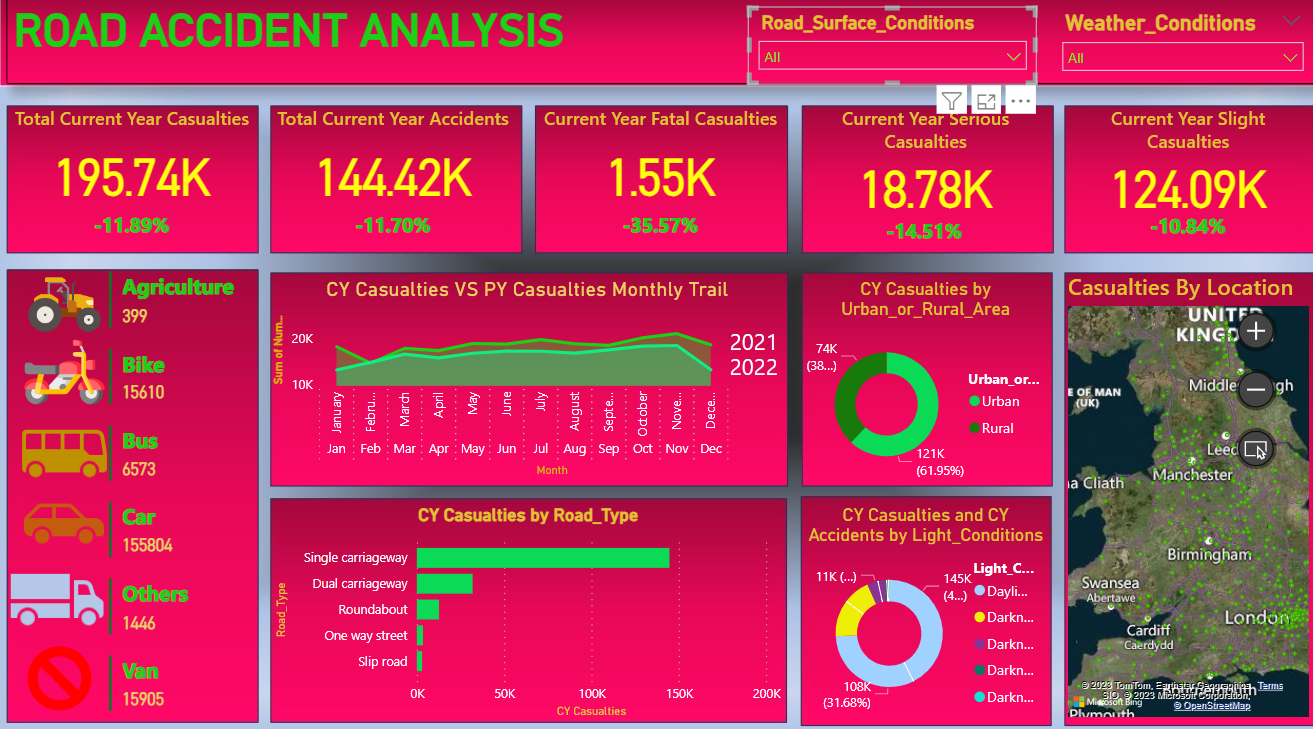

The dashboard page shown, as its layout file describes it:
{"tool":"powerbi","page":{"name":"Page 1","canvas":[1280,720],"ordinal":0},"visuals":[{"type":"group","id":"g1","title":"Group 1","box":[16.5,115.3,238.8,148.2],"z":0},{"type":"card","title":"Total Current Year Casualties","fields":{"Values":["Data.CY Casualties"]},"box":[16.5,115.3,238.8,104.3],"z":0,"group":"g1"},{"type":"card","title":"Total Current Year Accidents","fields":{"Values":["Data.CY Accidents"]},"box":[264.8,115.3,238.8,104.3],"z":0,"group":"g2"},{"type":"card","title":"Current Year Fatal Casualties","fields":{"Values":["Data.CY Accidents"]},"box":[520.1,115.3,238.8,104.3],"z":0,"group":"g3"},{"type":"card","title":"Current Year Serious Casualties","fields":{"Values":["Data.CY Accidents"]},"box":[772.6,115.3,238.8,104.3],"z":0,"group":"g4"},{"type":"card","title":"Current Year Slight Casualties","fields":{"Values":["Data.CY Accidents"]},"box":[1022.3,115.3,238.8,104.3],"z":0,"group":"g5"},{"type":"group","id":"g2","title":"Group 1","box":[264.8,115.3,238.8,148.2],"z":1000},{"type":"card","title":"YoY Casualties","fields":{"Values":["Data.YoY Casualties"]},"box":[52.2,199,167.4,64.5],"z":1000,"group":"g1"},{"type":"card","title":"YoY Casualties","fields":{"Values":["Data.YoY Accidents"]},"box":[300.5,199,167.4,64.5],"z":1000,"group":"g2"},{"type":"card","title":"YoY Casualties","fields":{"Values":["Data.YoY Accidents"]},"box":[555.8,199,167.4,64.5],"z":1000,"group":"g3"},{"type":"card","title":"YoY Casualties","fields":{"Values":["Data.YoY Accidents"]},"box":[1058.2,199.6,167.4,64.5],"z":1000,"group":"g5"},{"type":"card","title":"YoY Casualties","fields":{"Values":["Data.YoY Accidents"]},"box":[807.7,204.2,167.4,64.5],"z":1000,"group":"g4"},{"type":"group","id":"g3","title":"Group 1","box":[520.1,115.3,238.8,148.2],"z":2000},{"type":"group","id":"g4","title":"Group 1","box":[772.6,115.3,238.8,153.7],"z":3000},{"type":"group","id":"g5","title":"Group 1","box":[1022.3,115.3,238.8,148.2],"z":4000},{"type":"textbox","box":[16.1,12.1,1245.3,83.4],"z":5000},{"type":"multiRowCard","fields":{"Values":["Data.Vehicle_Type (groups)","Data.CY Casualties"]},"box":[109.8,269,174.3,451.5],"z":6000},{"type":"image","box":[16.5,263.5,109.8,83.7],"z":7000},{"type":"image","box":[16.5,326.6,109.8,86.4],"z":8000},{"type":"image","box":[16.5,397.9,109.8,97.4],"z":9000},{"type":"image","box":[24.7,463.8,93.3,98.8],"z":10000},{"type":"image","box":[12.3,529.7,105.7,112.5],"z":11000},{"type":"image","box":[12.3,617.5,109.8,86.4],"z":12000},{"type":"areaChart","title":"CY Casualties VS PY Casualties Monthly Trail","fields":{"Category":["Calender.Month","Calender.Date.Variation.Date Hierarchy.Month"],"Y":["Sum(Data.Number_of_Casualties)"],"Series":["Calender.Date.Variation.Date Hierarchy.Year"]},"box":[264.8,279.9,494,194.9],"z":13000},{"type":"donutChart","fields":{"Category":["Data.Urban_or_Rural_Area"],"Y":["Data.CY Casualties"]},"box":[772.6,279.9,238.8,203.1],"z":14000},{"type":"donutChart","fields":{"Y":["Data.CY Casualties","Data.CY Accidents"],"Category":["Data.Light_Conditions"]},"box":[772.6,495.4,238.8,208.6],"z":15000},{"type":"barChart","fields":{"Category":["Data.Road_Type"],"Y":["Data.CY Casualties"]},"box":[267.6,495.4,491.3,208.6],"z":16000},{"type":"map","title":"Casualties By Location","fields":{"Category":["Data.Local_Authority_(District)"],"X":["Avg(Data.Longitude)"],"Y":["Avg(Data.Latitude)"]},"box":[1022.1,273,239.4,430.3],"z":17000},{"type":"slicer","fields":{"Values":["Data.Weather_Conditions (groups)"]},"box":[1011.3,20.2,250.1,65.9],"z":17001},{"type":"slicer","fields":{"Values":["Data.Road_Surface_Conditions"]},"box":[722.2,21.5,275.7,74],"z":17002}]}

Visuals, with their boxes in screenshot pixels (x1, y1, x2, y2), scaled from the page's 1280x720 canvas onto the 1313x729 screenshot:
"Group 1" group: Rect(17, 117, 262, 267)
"Total Current Year Casualties" card: Rect(17, 117, 262, 222)
"Total Current Year Accidents" card: Rect(272, 117, 517, 222)
"Current Year Fatal Casualties" card: Rect(534, 117, 778, 222)
"Current Year Serious Casualties" card: Rect(793, 117, 1037, 222)
"Current Year Slight Casualties" card: Rect(1049, 117, 1294, 222)
"Group 1" group: Rect(272, 117, 517, 267)
"YoY Casualties" card: Rect(54, 201, 225, 267)
"YoY Casualties" card: Rect(308, 201, 480, 267)
"YoY Casualties" card: Rect(570, 201, 742, 267)
"YoY Casualties" card: Rect(1085, 202, 1257, 267)
"YoY Casualties" card: Rect(829, 207, 1000, 272)
"Group 1" group: Rect(534, 117, 778, 267)
"Group 1" group: Rect(793, 117, 1037, 272)
"Group 1" group: Rect(1049, 117, 1294, 267)
textbox: Rect(17, 12, 1294, 97)
multiRowCard - Data.Vehicle_Type (groups) x Data.CY Casualties: Rect(113, 272, 291, 728)
image: Rect(17, 267, 130, 352)
image: Rect(17, 331, 130, 418)
image: Rect(17, 403, 130, 501)
image: Rect(25, 470, 121, 570)
image: Rect(13, 536, 121, 650)
image: Rect(13, 625, 125, 713)
"CY Casualties VS PY Casualties Monthly Trail" areaChart: Rect(272, 283, 778, 481)
donutChart - Data.Urban_or_Rural_Area x Data.CY Casualties: Rect(793, 283, 1037, 489)
donutChart - Data.CY Casualties x Data.CY Accidents: Rect(793, 502, 1037, 713)
barChart - Data.Road_Type x Data.CY Casualties: Rect(274, 502, 778, 713)
"Casualties By Location" map: Rect(1048, 276, 1294, 712)
slicer - Data.Weather_Conditions (groups): Rect(1037, 20, 1294, 87)
slicer - Data.Road_Surface_Conditions: Rect(741, 22, 1024, 97)
